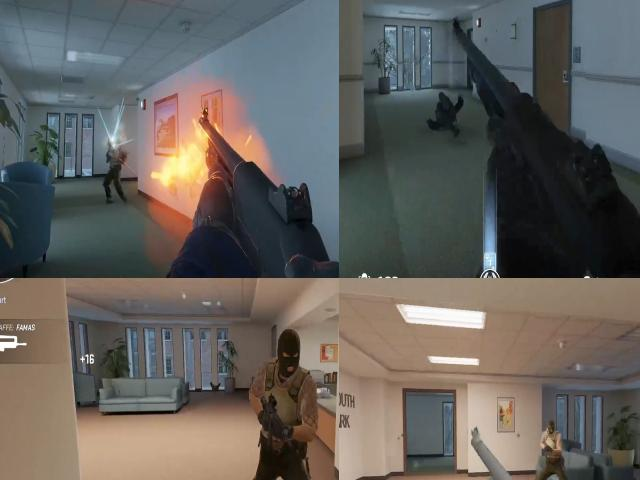Dead: (426, 91, 466, 135)
T: (251, 321, 313, 480), (539, 416, 567, 478), (106, 133, 122, 200)
T-Head: (274, 325, 307, 381), (544, 418, 560, 438)
